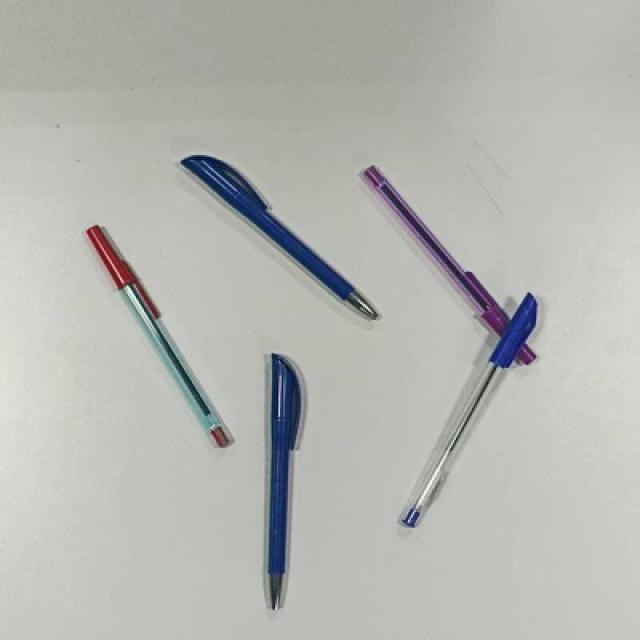caneta: (179, 139, 391, 324), (363, 161, 541, 367), (401, 292, 548, 532), (86, 219, 234, 450), (267, 355, 302, 610)
